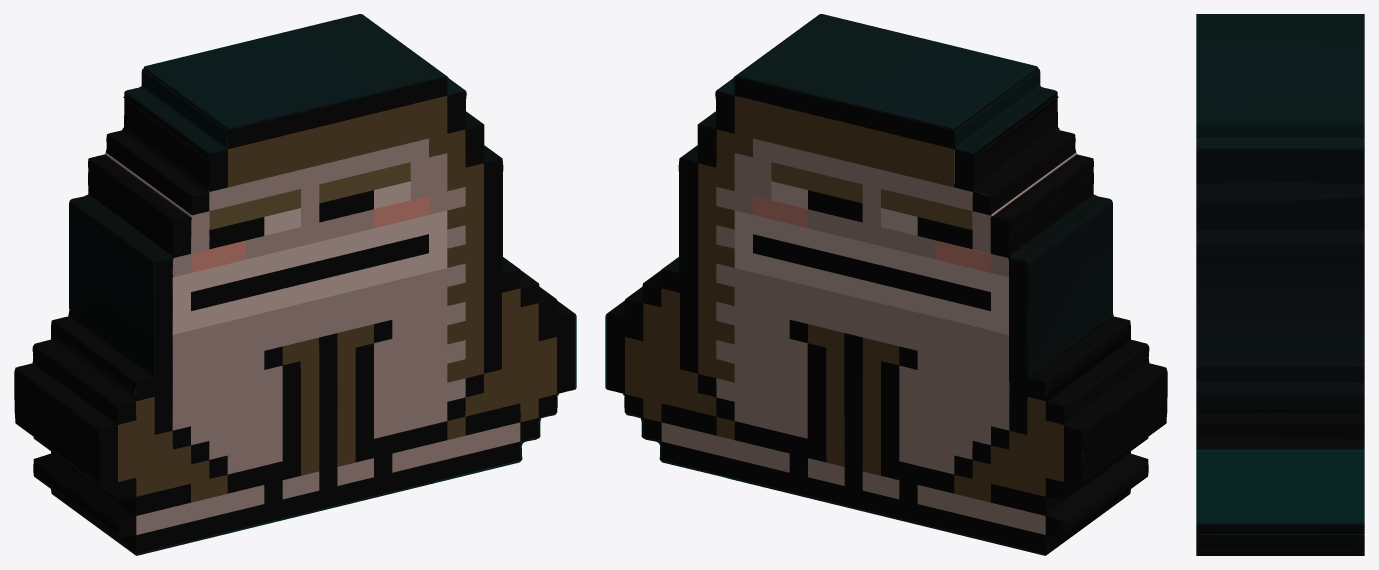
File: Toadz_2273.glb
The picture shows the model from 3 angles, left to right: view 1: azimuth 30°, elevation 25°; view 2: azimuth 150°, elevation 25°; view 3: azimuth 270°, elevation 25°; orthographic projection.
Parts seen in each view (by area): view 1: Curve; view 2: Curve; view 3: Curve.
Boxes of the visible parts, box(x1,y1,x2,y2) form: Curve: box(14, 14, 576, 555); Curve: box(605, 14, 1167, 555); Curve: box(1196, 14, 1364, 555).
Size of the model in its own units: 3.25 by 2.63 by 1.
